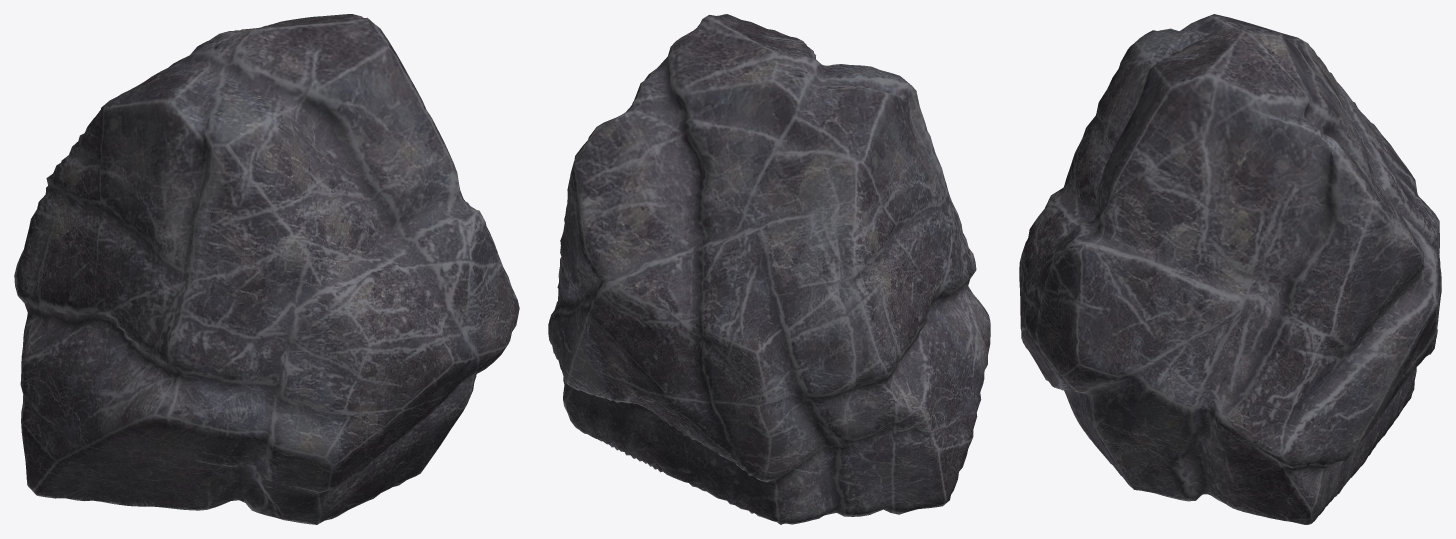
The model's file is rock_boulder_game_ready_asset.glb.
3 views of the same model, side by side, from view 1: azimuth 30°, elevation 25°; view 2: azimuth 150°, elevation 25°; view 3: azimuth 270°, elevation 25° (orthographic). The views are drawn at different scales.
Parts seen in each view (by area): view 1: Rock; view 2: Rock; view 3: Rock.
Part boxes in pixels (left/top/right/bottom): Rock: left=14, top=14, right=519, bottom=524; Rock: left=548, top=14, right=990, bottom=524; Rock: left=1019, top=14, right=1441, bottom=524.
Size of the model in its own units: 115 by 110 by 101.
1 material, 1 textured.
